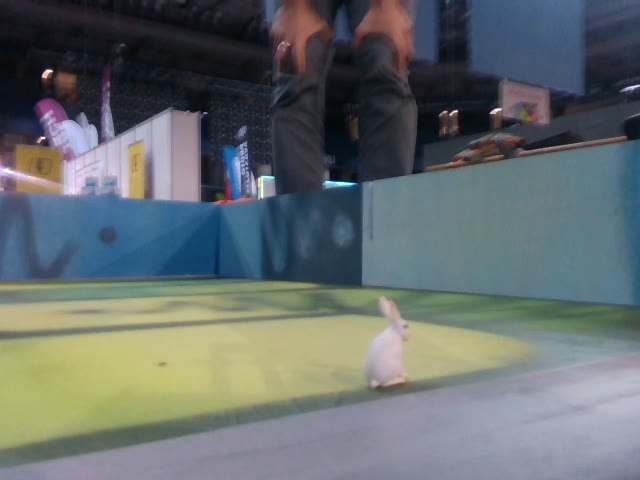toy: (362, 294, 414, 388)
